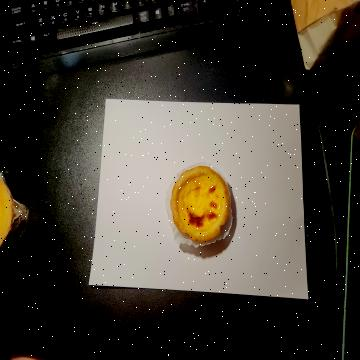EggTart: (170, 163, 231, 243)
